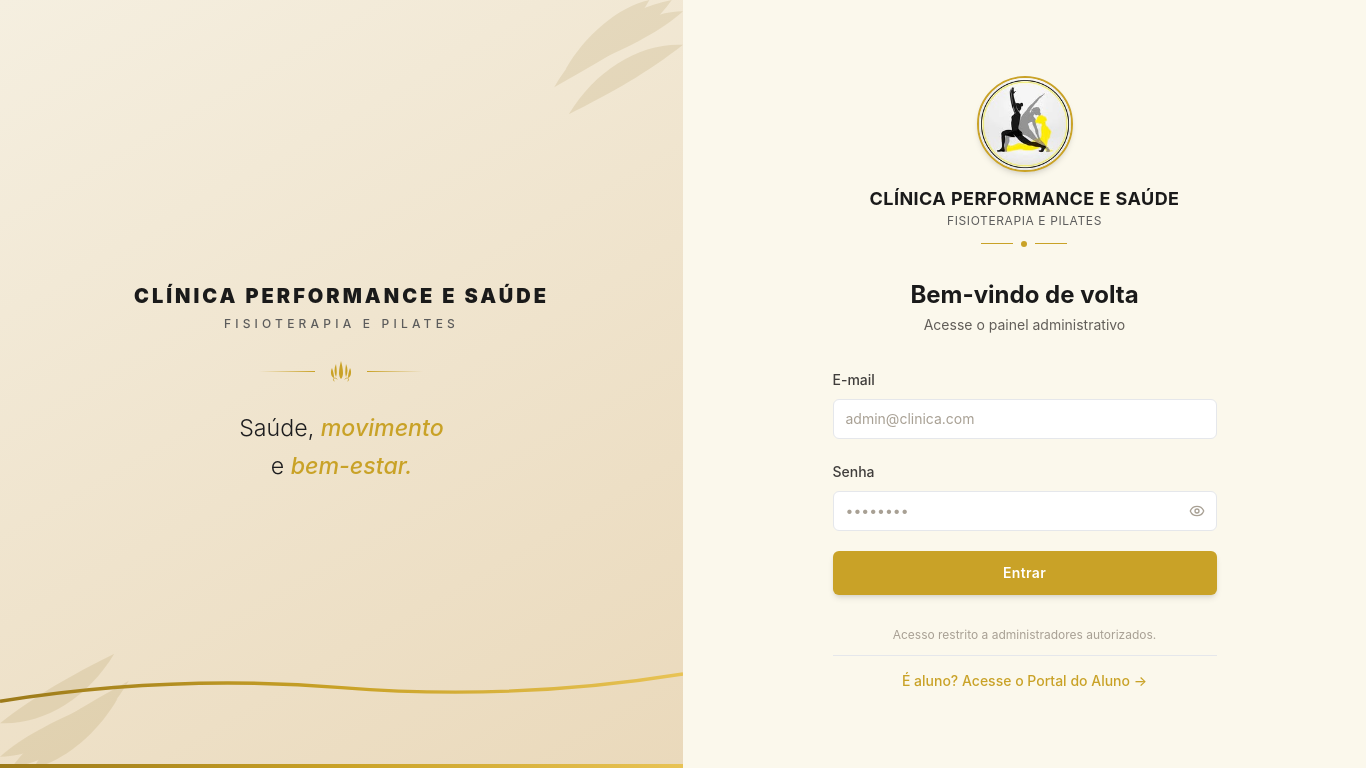
Scenario: AdminLoginPage › faz login com credenciais válidas e mostra a tela de sucesso
Type "admin@pilates.local" into the field labelled "E-mail" at [1024, 419], box [832,399,1216,439]
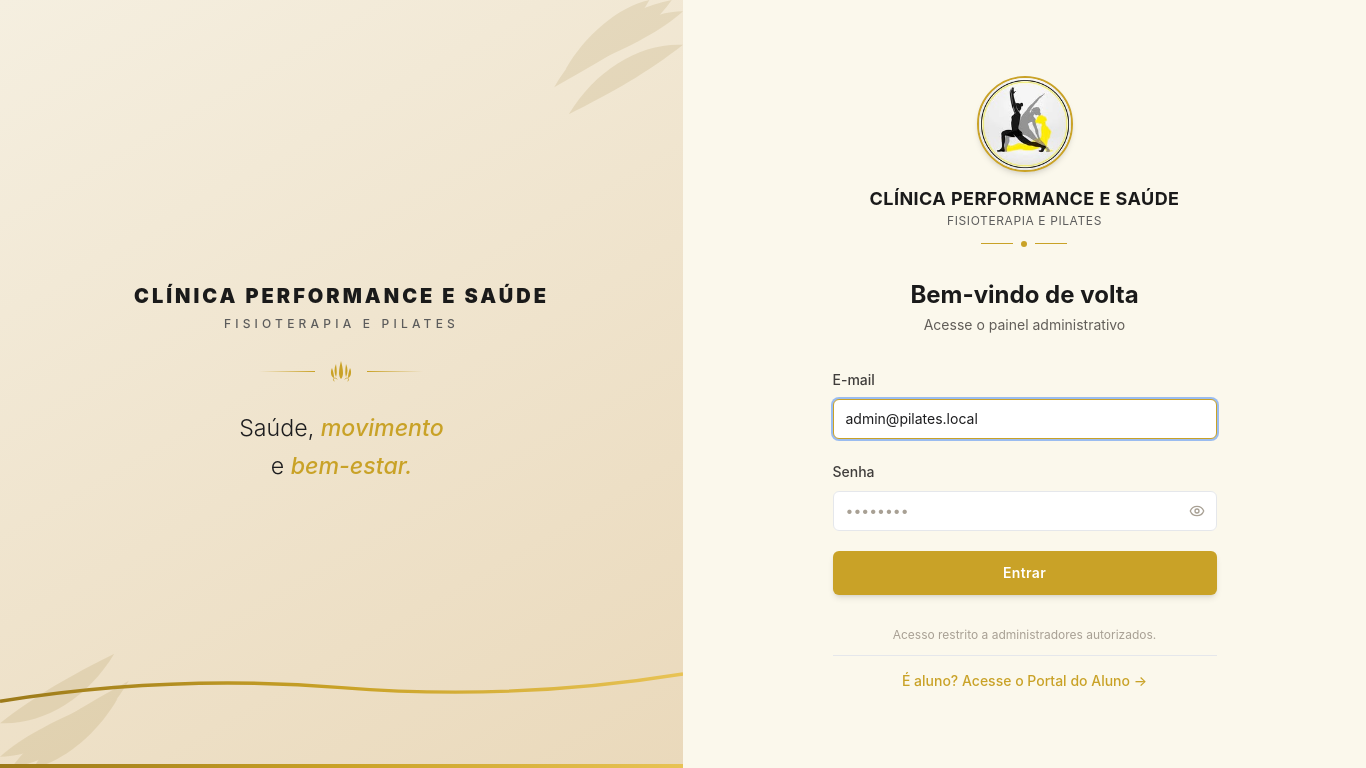
Type "admin123" into the password field labelled "Senha" at [1024, 511], box [832,491,1216,531]
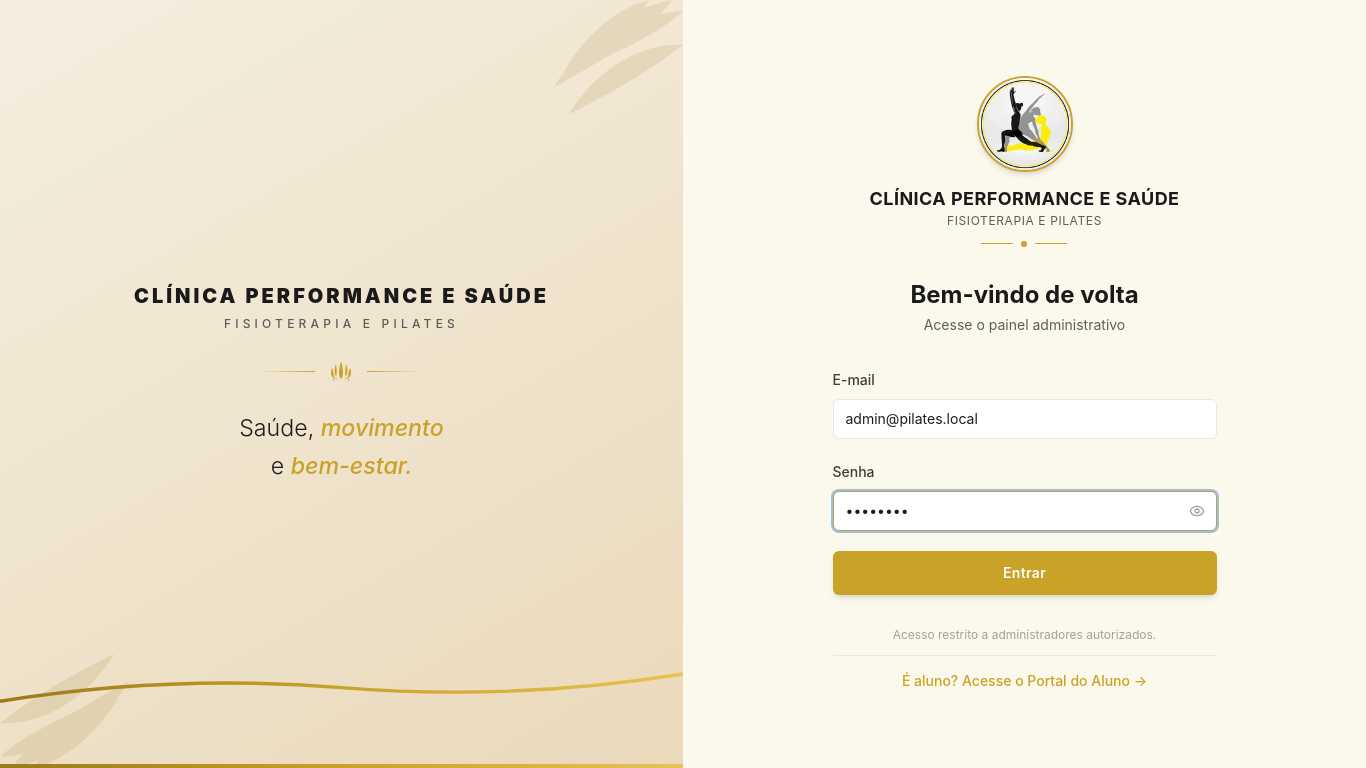
Click the button "Entrar" at [1024, 573], box [832,551,1216,595]
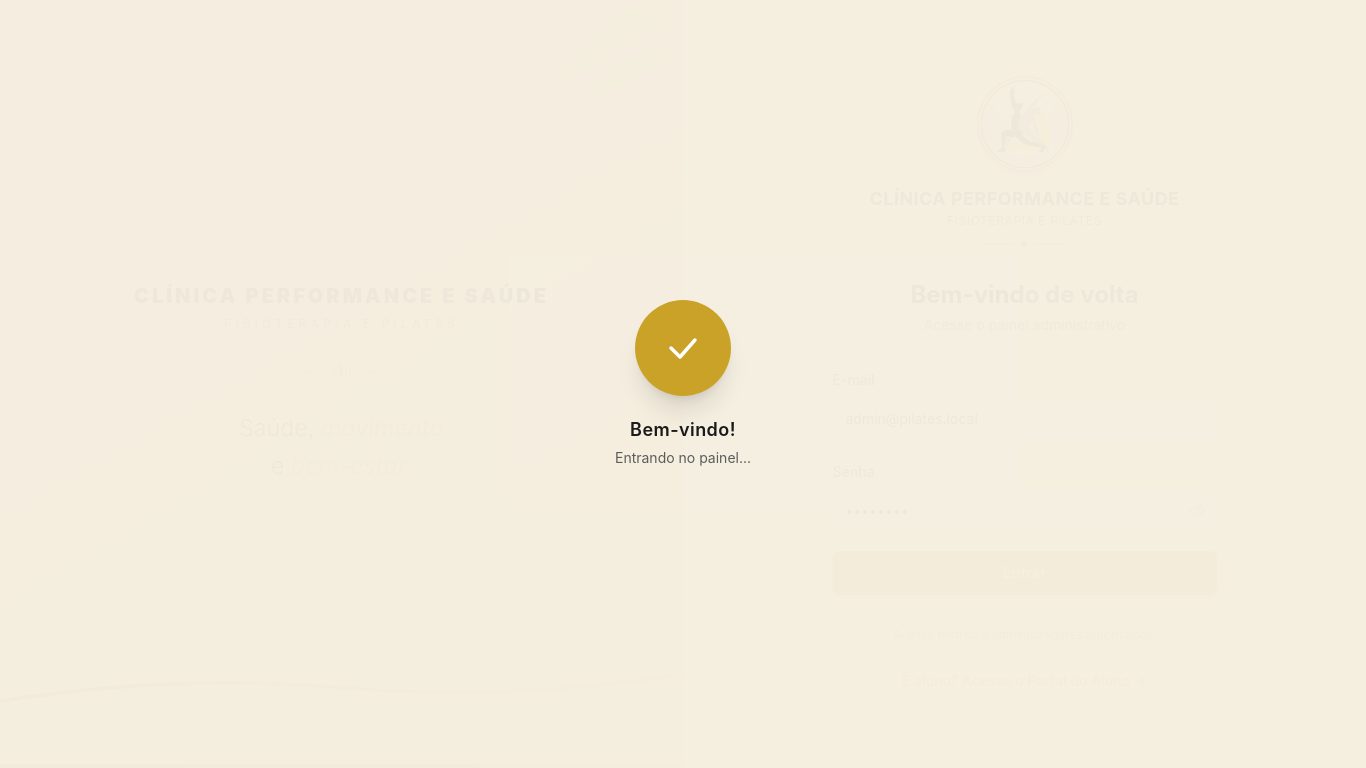
Now the text "Bem-vindo!" is shown, box [630,419,736,440]
